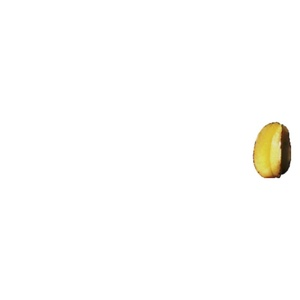carambola: (253, 122, 292, 179)
